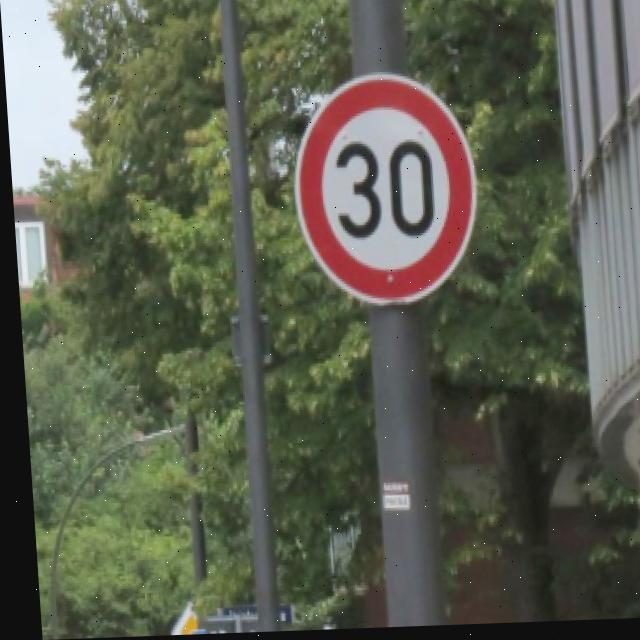Speed limit 30: (285, 71, 484, 314)
